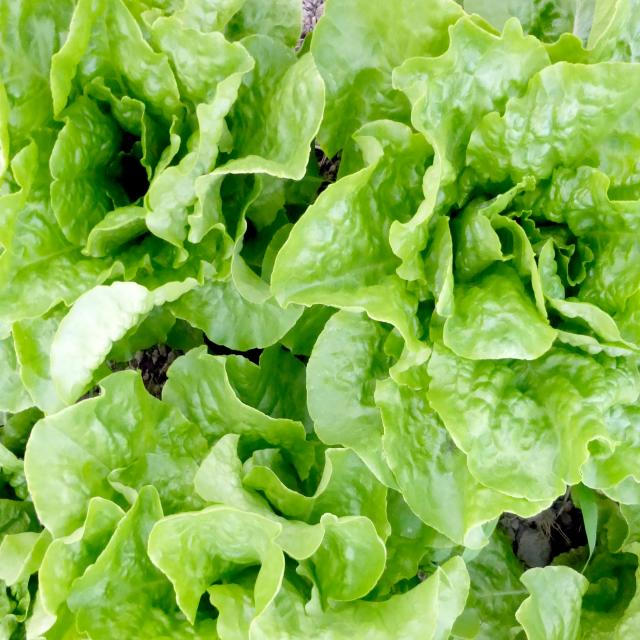Lettuce head: (316, 0, 640, 505), (0, 0, 303, 347), (27, 354, 394, 640)
